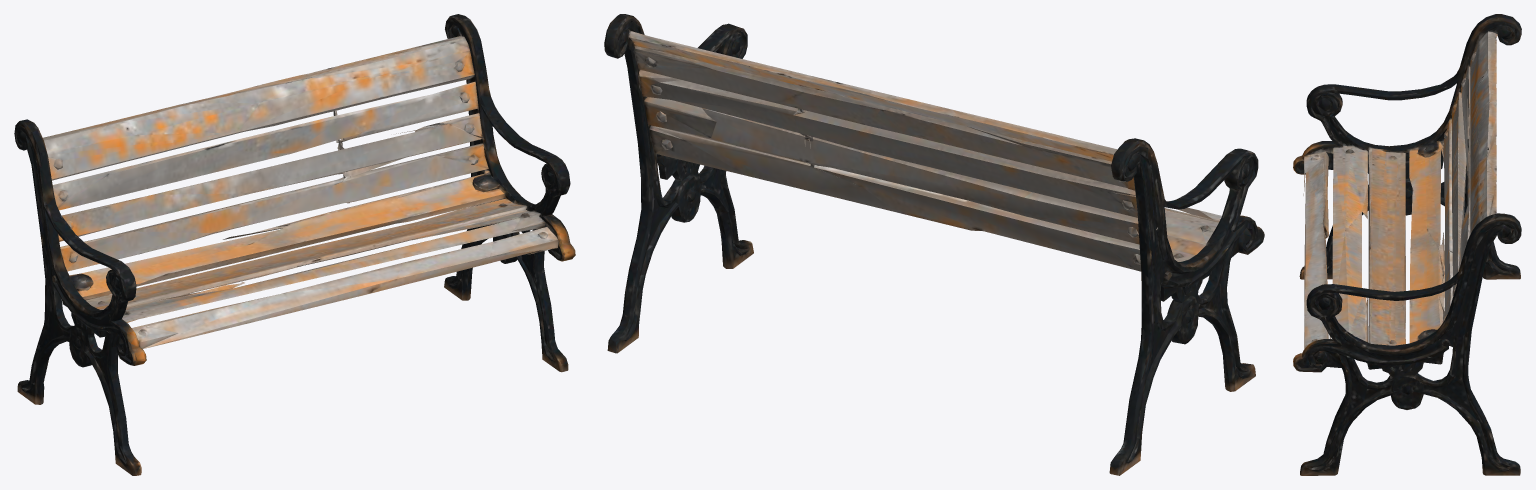
File: park_bench.glb
3 renders of one model, left to right at view 1: azimuth 30°, elevation 25°; view 2: azimuth 150°, elevation 25°; view 3: azimuth 270°, elevation 25°, orthographic. The views are drawn at different scales.
Visible parts, largest first — view 1: main; view 2: main; view 3: main.
Part boxes in pixels (x1,y1,x2,y2): main: [14, 14, 575, 475]; main: [604, 14, 1264, 475]; main: [1293, 14, 1521, 475].
Bounding box in the file's own units: 1.58 × 0.9297 × 0.7388.
Materials: 1 (1 with a texture image).
